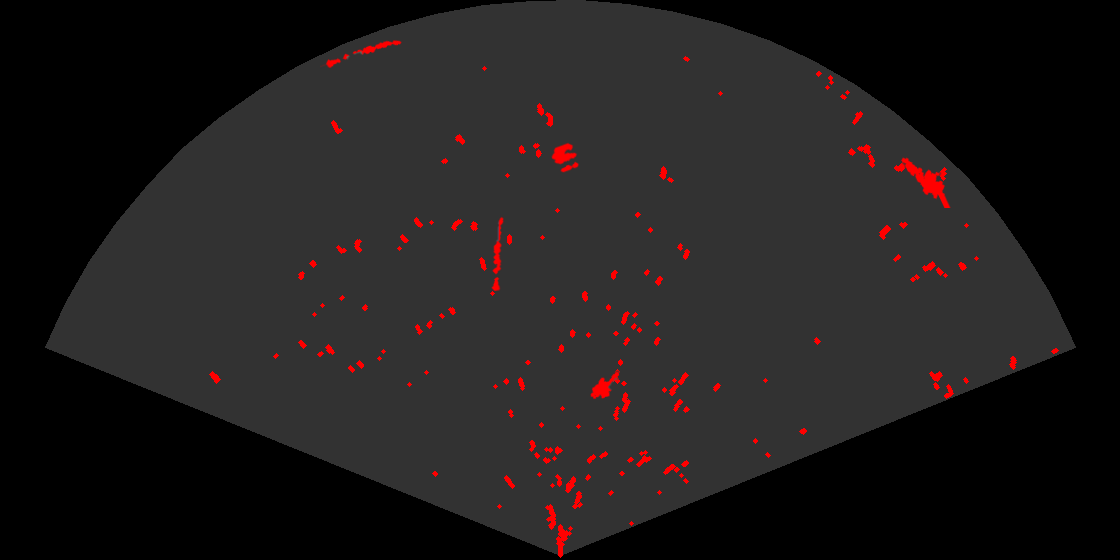AUV: (589, 370, 621, 401)
ball: (550, 141, 581, 174)
chain: (320, 38, 404, 70), (490, 215, 505, 291)
frogman: (900, 155, 952, 208)
